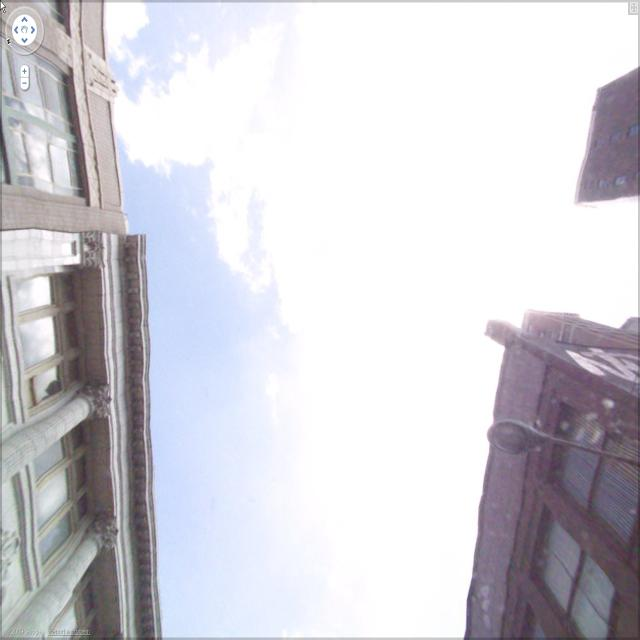b_1: (0, 1, 172, 628), (462, 346, 640, 626), (583, 78, 640, 210)
